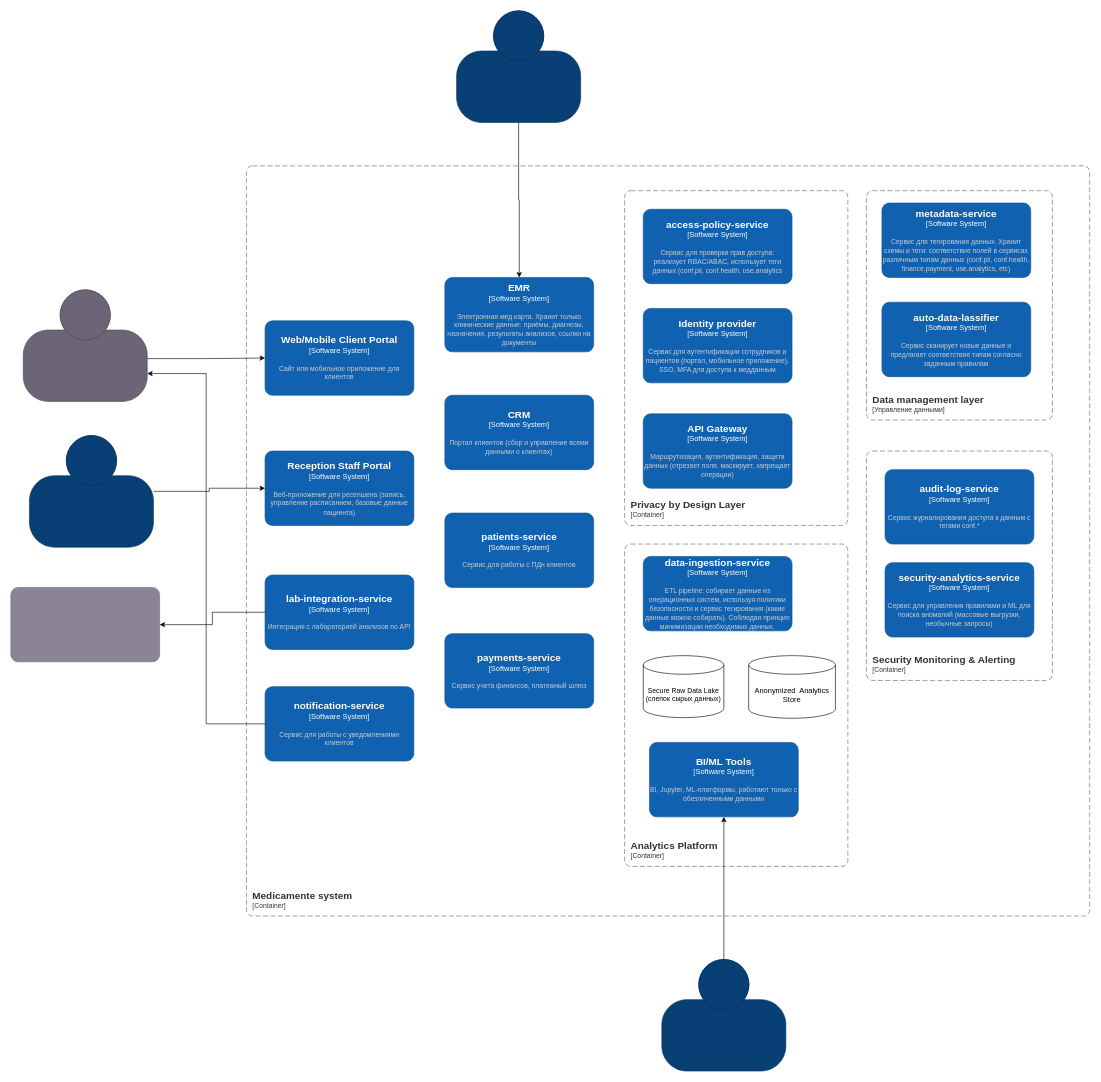
The diagram is 1101 pixels wide and 1082 high, and some of its shapes have lost their labels. The shapes that lost their labels are listed below. From the top down, each one's centre as x and y in pixels, then its label:
point 518,66: Врач [Person] сотрудник
point 85,345: Клиент [Person]
point 91,491: Мед работник на ресепшн [Person]
point 85,624: Laboratory [Software System] Лаборатория для выполнения анализов
point 723,1015: Аналитик [Person]
